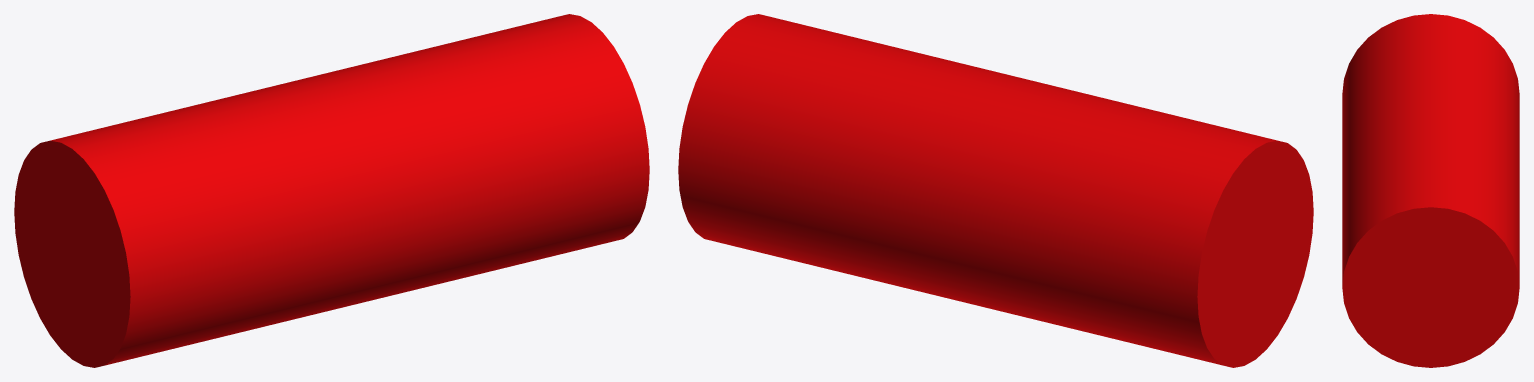
The model's file is muzzle_01.fbx.
The picture shows the model from 3 angles, left to right: view 1: azimuth 30°, elevation 25°; view 2: azimuth 150°, elevation 25°; view 3: azimuth 270°, elevation 25°; orthographic projection. The views are drawn at different scales.
Visible parts, largest first — view 1: muzzle; view 2: muzzle; view 3: muzzle.
Part boxes in pixels (x1,y1,x2,y2): muzzle: [14, 14, 649, 367]; muzzle: [678, 14, 1313, 367]; muzzle: [1342, 14, 1519, 367].
Bounding box in the file's own units: 516 × 200 × 200.
